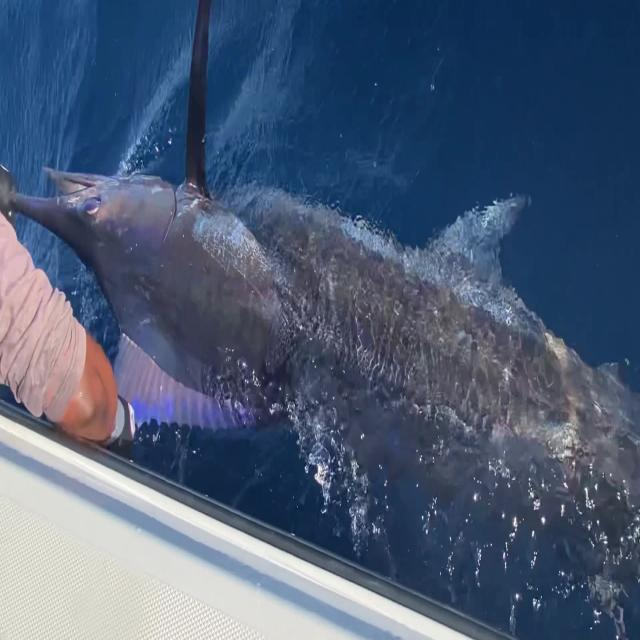Liberacion segura: (8, 1, 640, 618)
